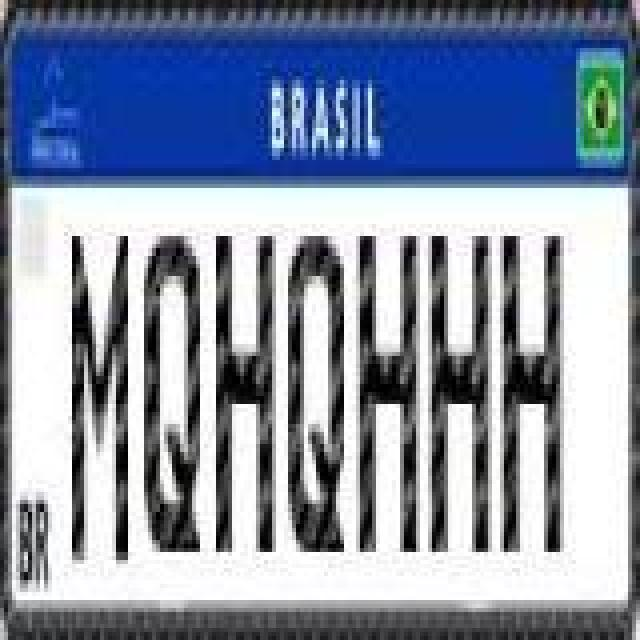H: (356, 224, 420, 560), (500, 224, 564, 560), (216, 230, 280, 554), (428, 230, 492, 554)
M: (68, 228, 132, 572)
Q: (142, 230, 202, 554), (286, 230, 346, 554)
